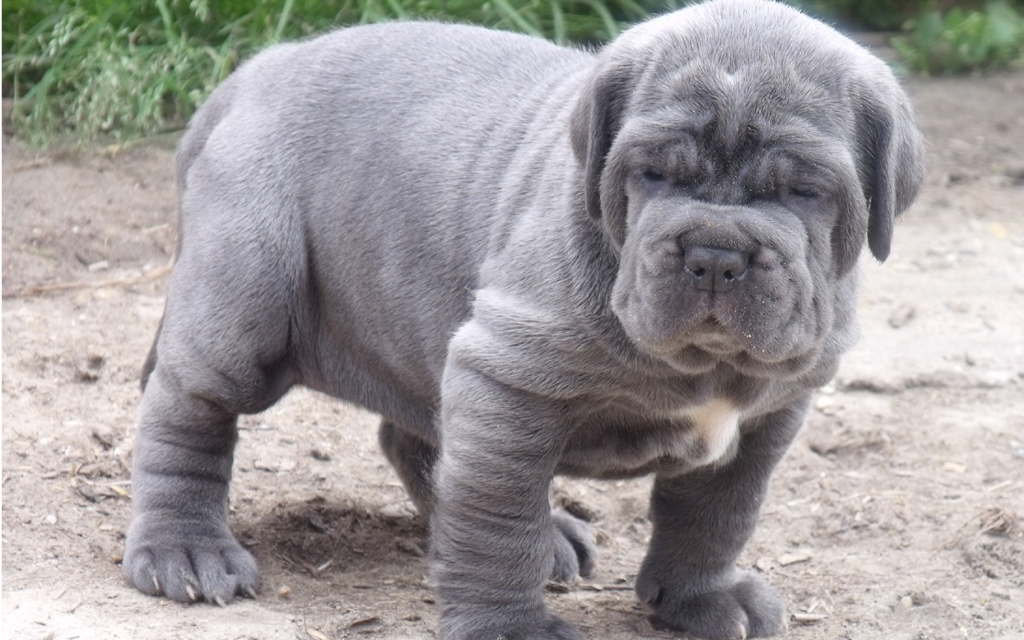neapolitan_mastiff: (122, 0, 926, 640)
